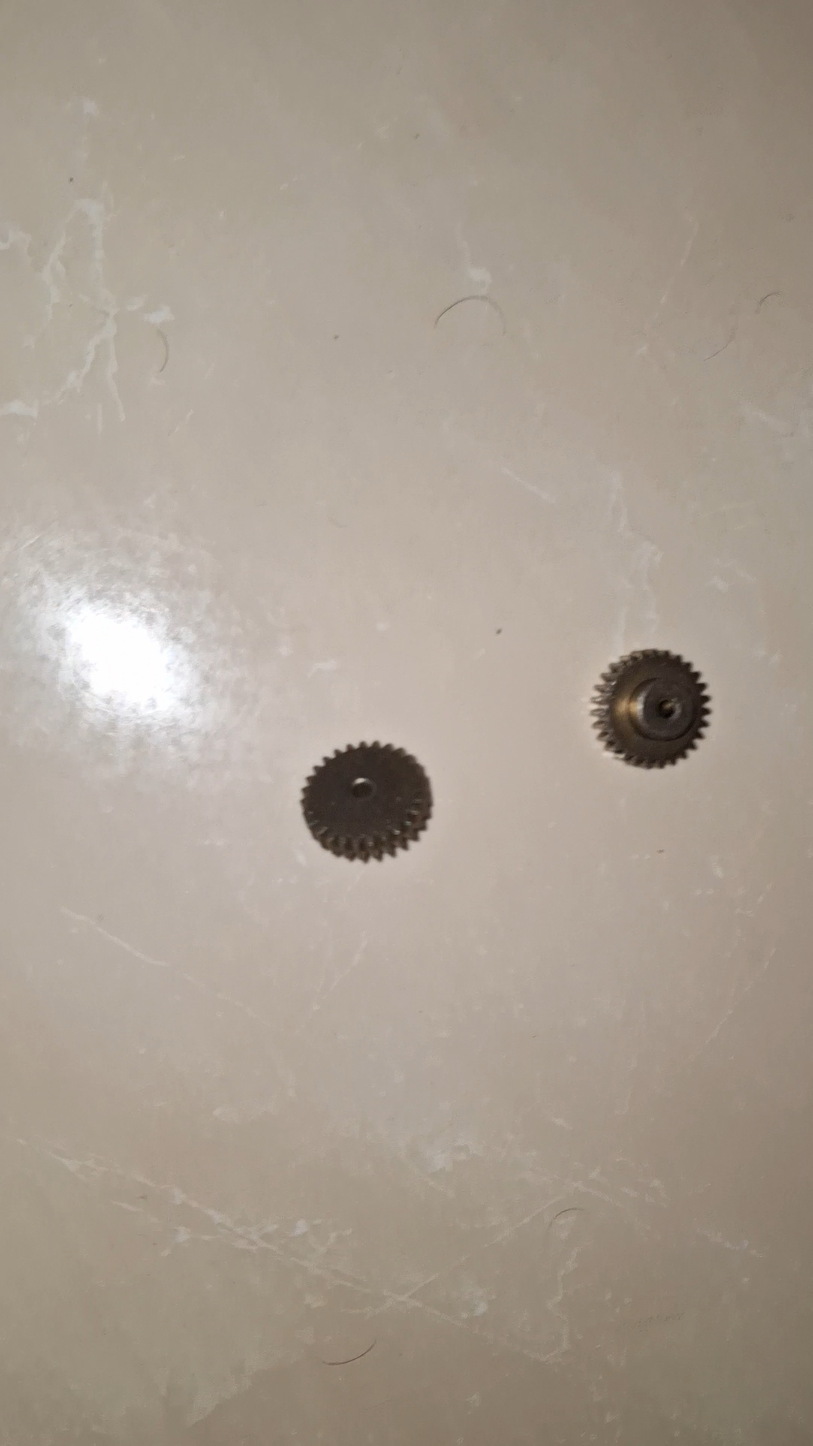spur gear: (302, 743, 432, 861), (592, 650, 709, 768)
